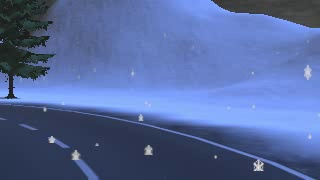Lane: (1, 103, 312, 179)
